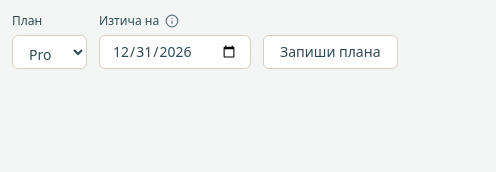
Test: PlanForm › sends org, plan and date; refreshes on success
This screenshot has width=496, height=172.
Type "2027-01-15" into the date field labelled "Изтича на". click: (175, 52)
box: [99, 35, 251, 69]
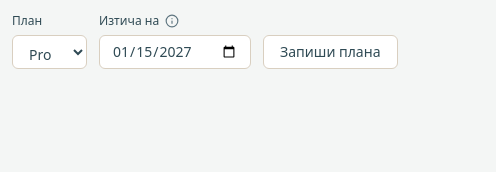
Click the button "Запиши плана". click: (330, 52)
box: [263, 35, 398, 69]
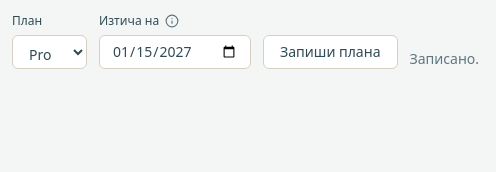
Now the message reads "Записано.", box [410, 49, 479, 68]
